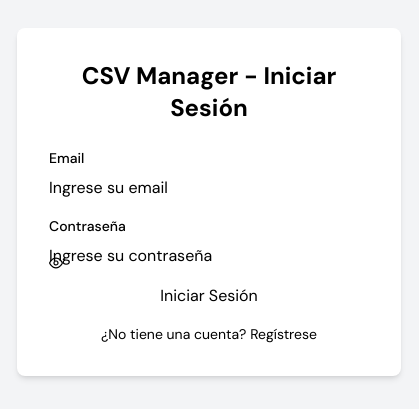
Scenario: LoginView › shows validation error for empty password
Type "test@example.com" into the field labelled "Email".
click(209, 188); type("test@example.com")  # box [49,176,369,200]
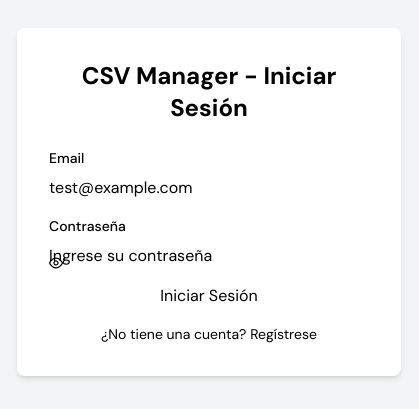
Submit the form, box [49,148,369,308]
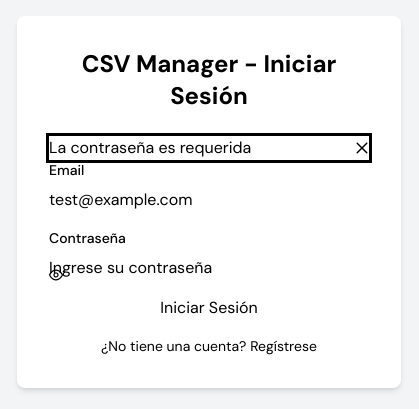
Check: the text "La contraseña es requerida" is shown, box [49,136,251,160]
